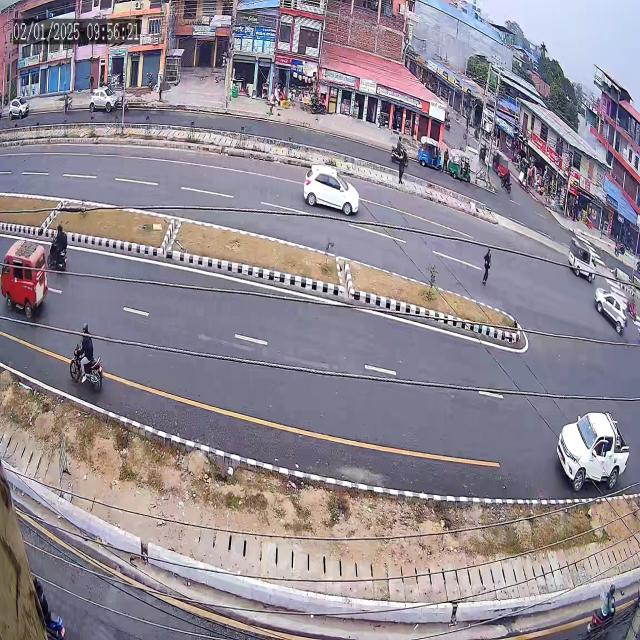car: (541, 389, 631, 502), (300, 155, 368, 227), (586, 274, 631, 354)
motorcycle: (64, 309, 108, 407), (45, 216, 77, 280), (387, 130, 411, 167)
van: (0, 241, 49, 319), (566, 232, 598, 286)
